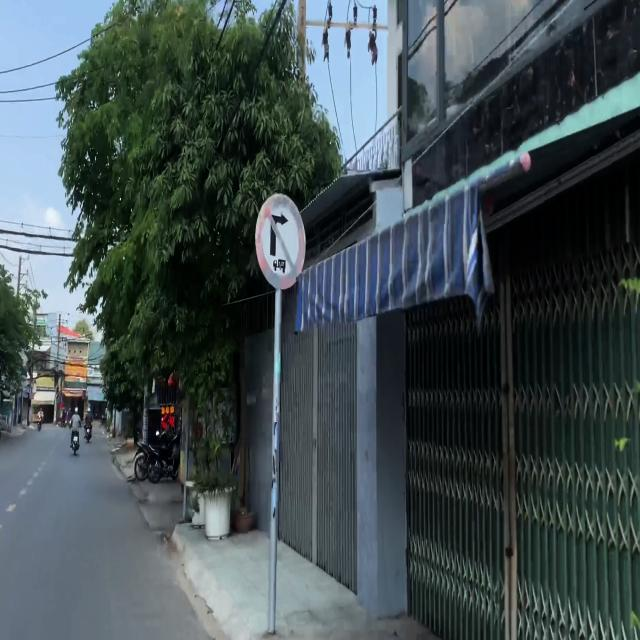Cam re phai: (255, 193, 306, 293)
